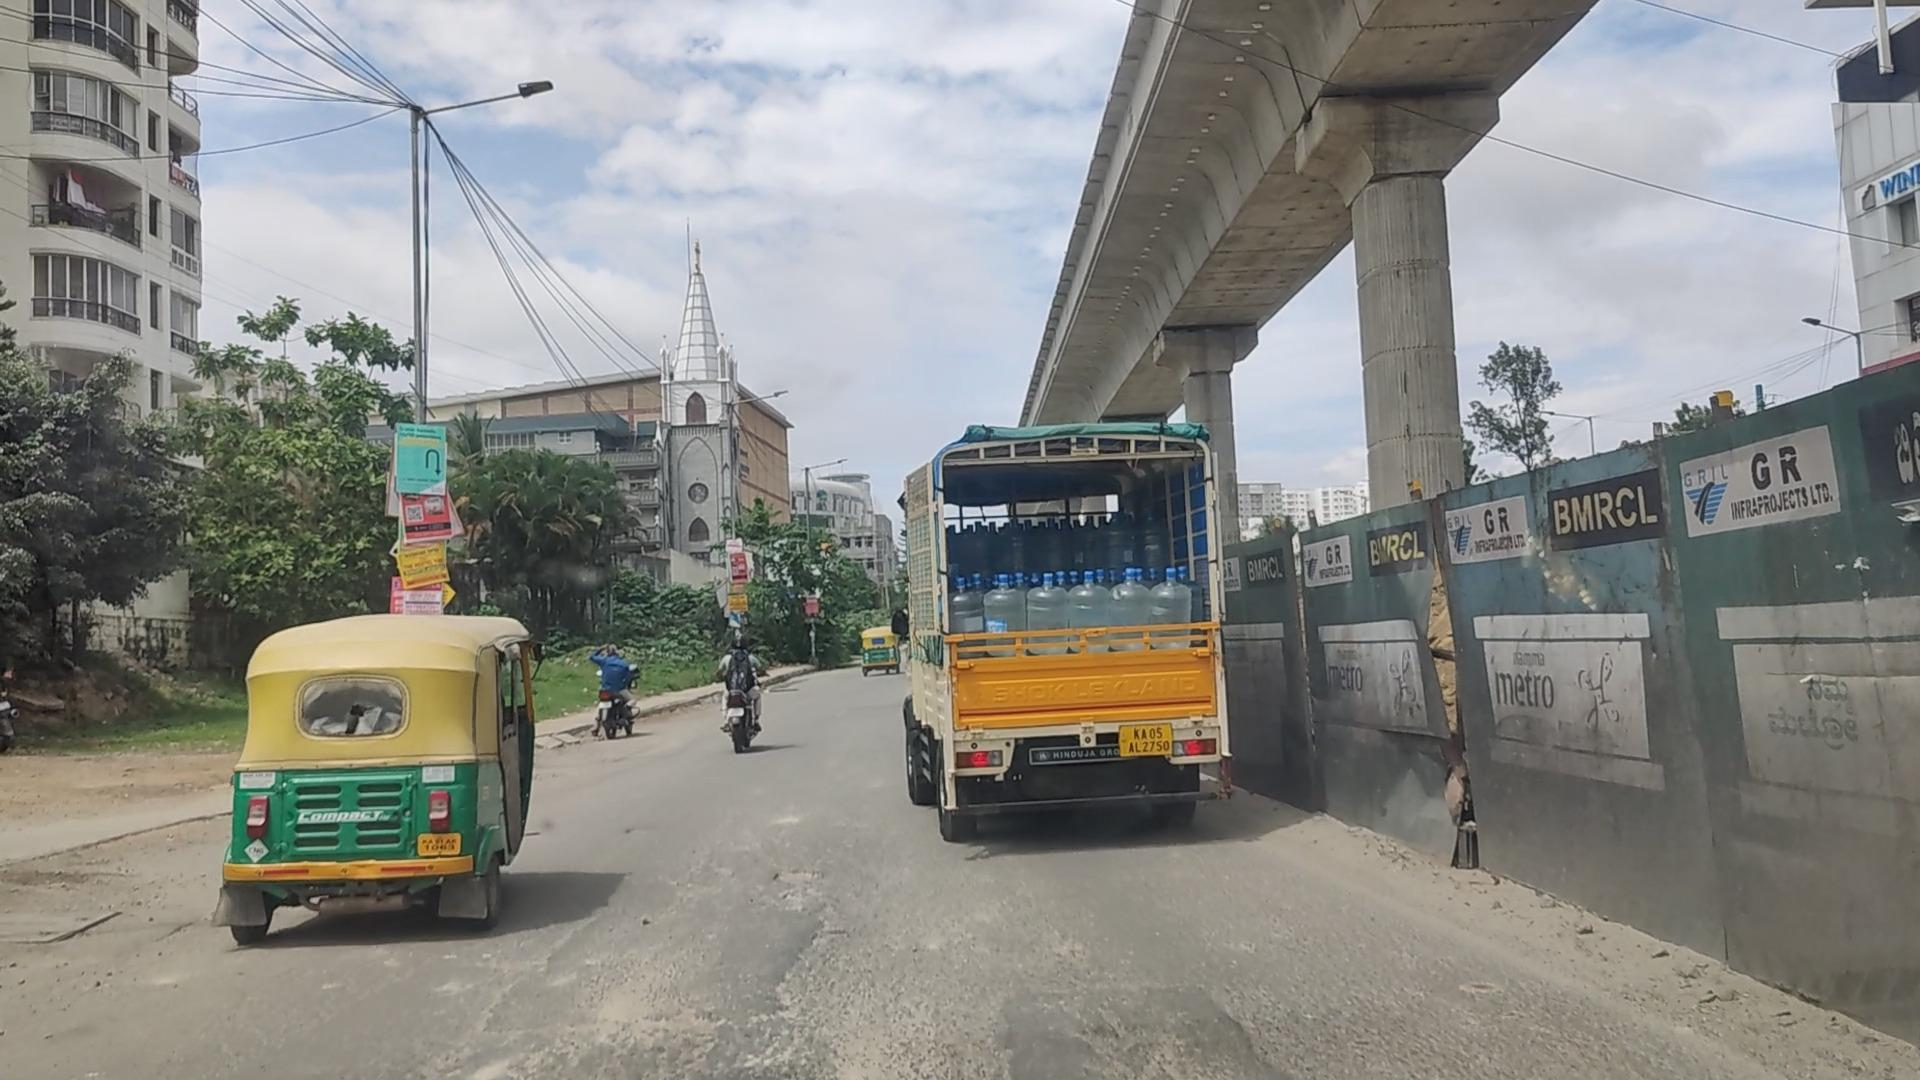HMV: (882, 430, 1246, 851)
LMV: (222, 626, 534, 932), (711, 634, 753, 750), (587, 637, 628, 742)
RoadDamages: (468, 955, 803, 1076), (978, 951, 1271, 1080), (736, 843, 837, 918)
